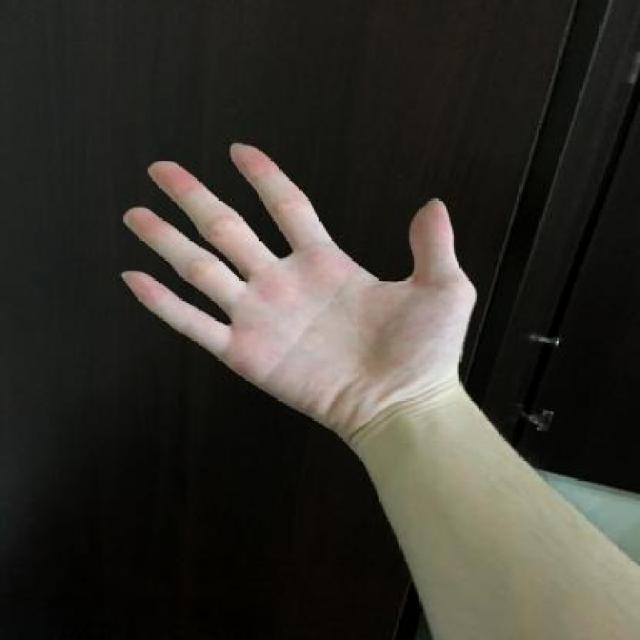no_glove: (109, 134, 480, 451)
